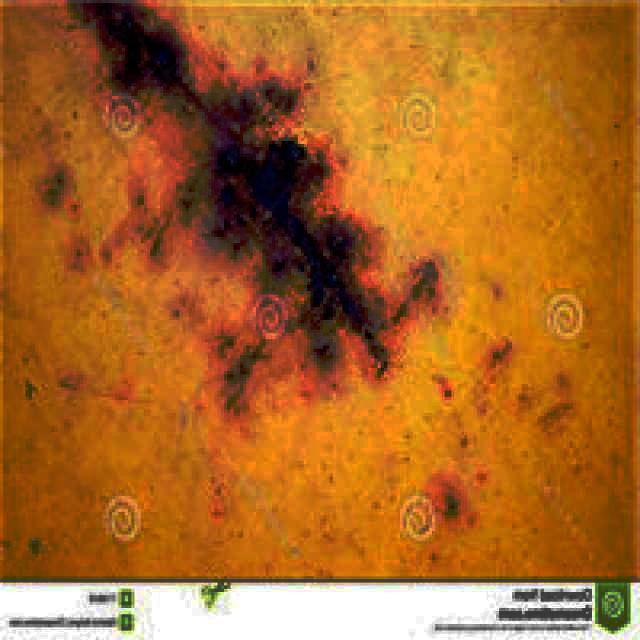Corrosion: (294, 222, 384, 364), (212, 139, 324, 246), (95, 1, 199, 106), (200, 76, 299, 150)
